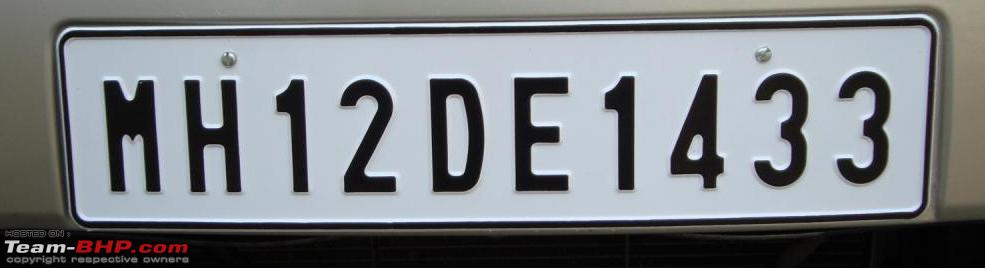numberplate: (55, 13, 936, 223)
